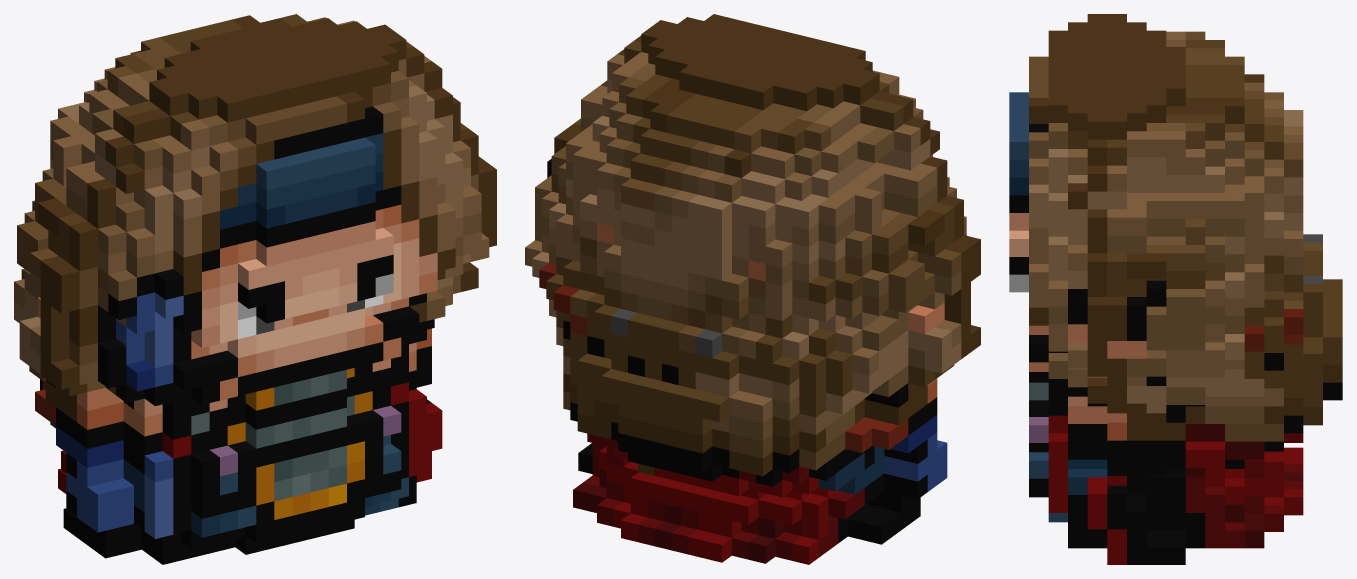
File: Icon_026_01.obj
3 renders of one model, left to right at view 1: azimuth 30°, elevation 25°; view 2: azimuth 150°, elevation 25°; view 3: azimuth 270°, elevation 25°, orthographic. The views are drawn at different scales.
Bounding box in the file's own units: 2.4 × 2.4 × 1.7.
